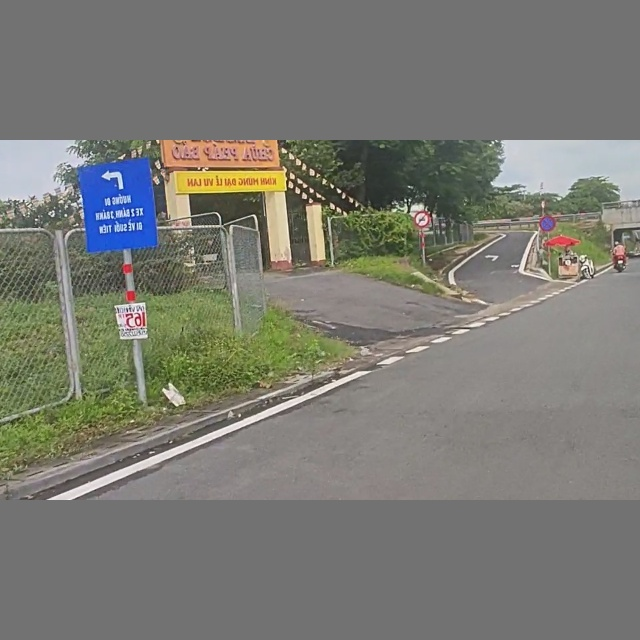P.103a: (414, 210, 431, 229)
P.130: (539, 215, 555, 232)
